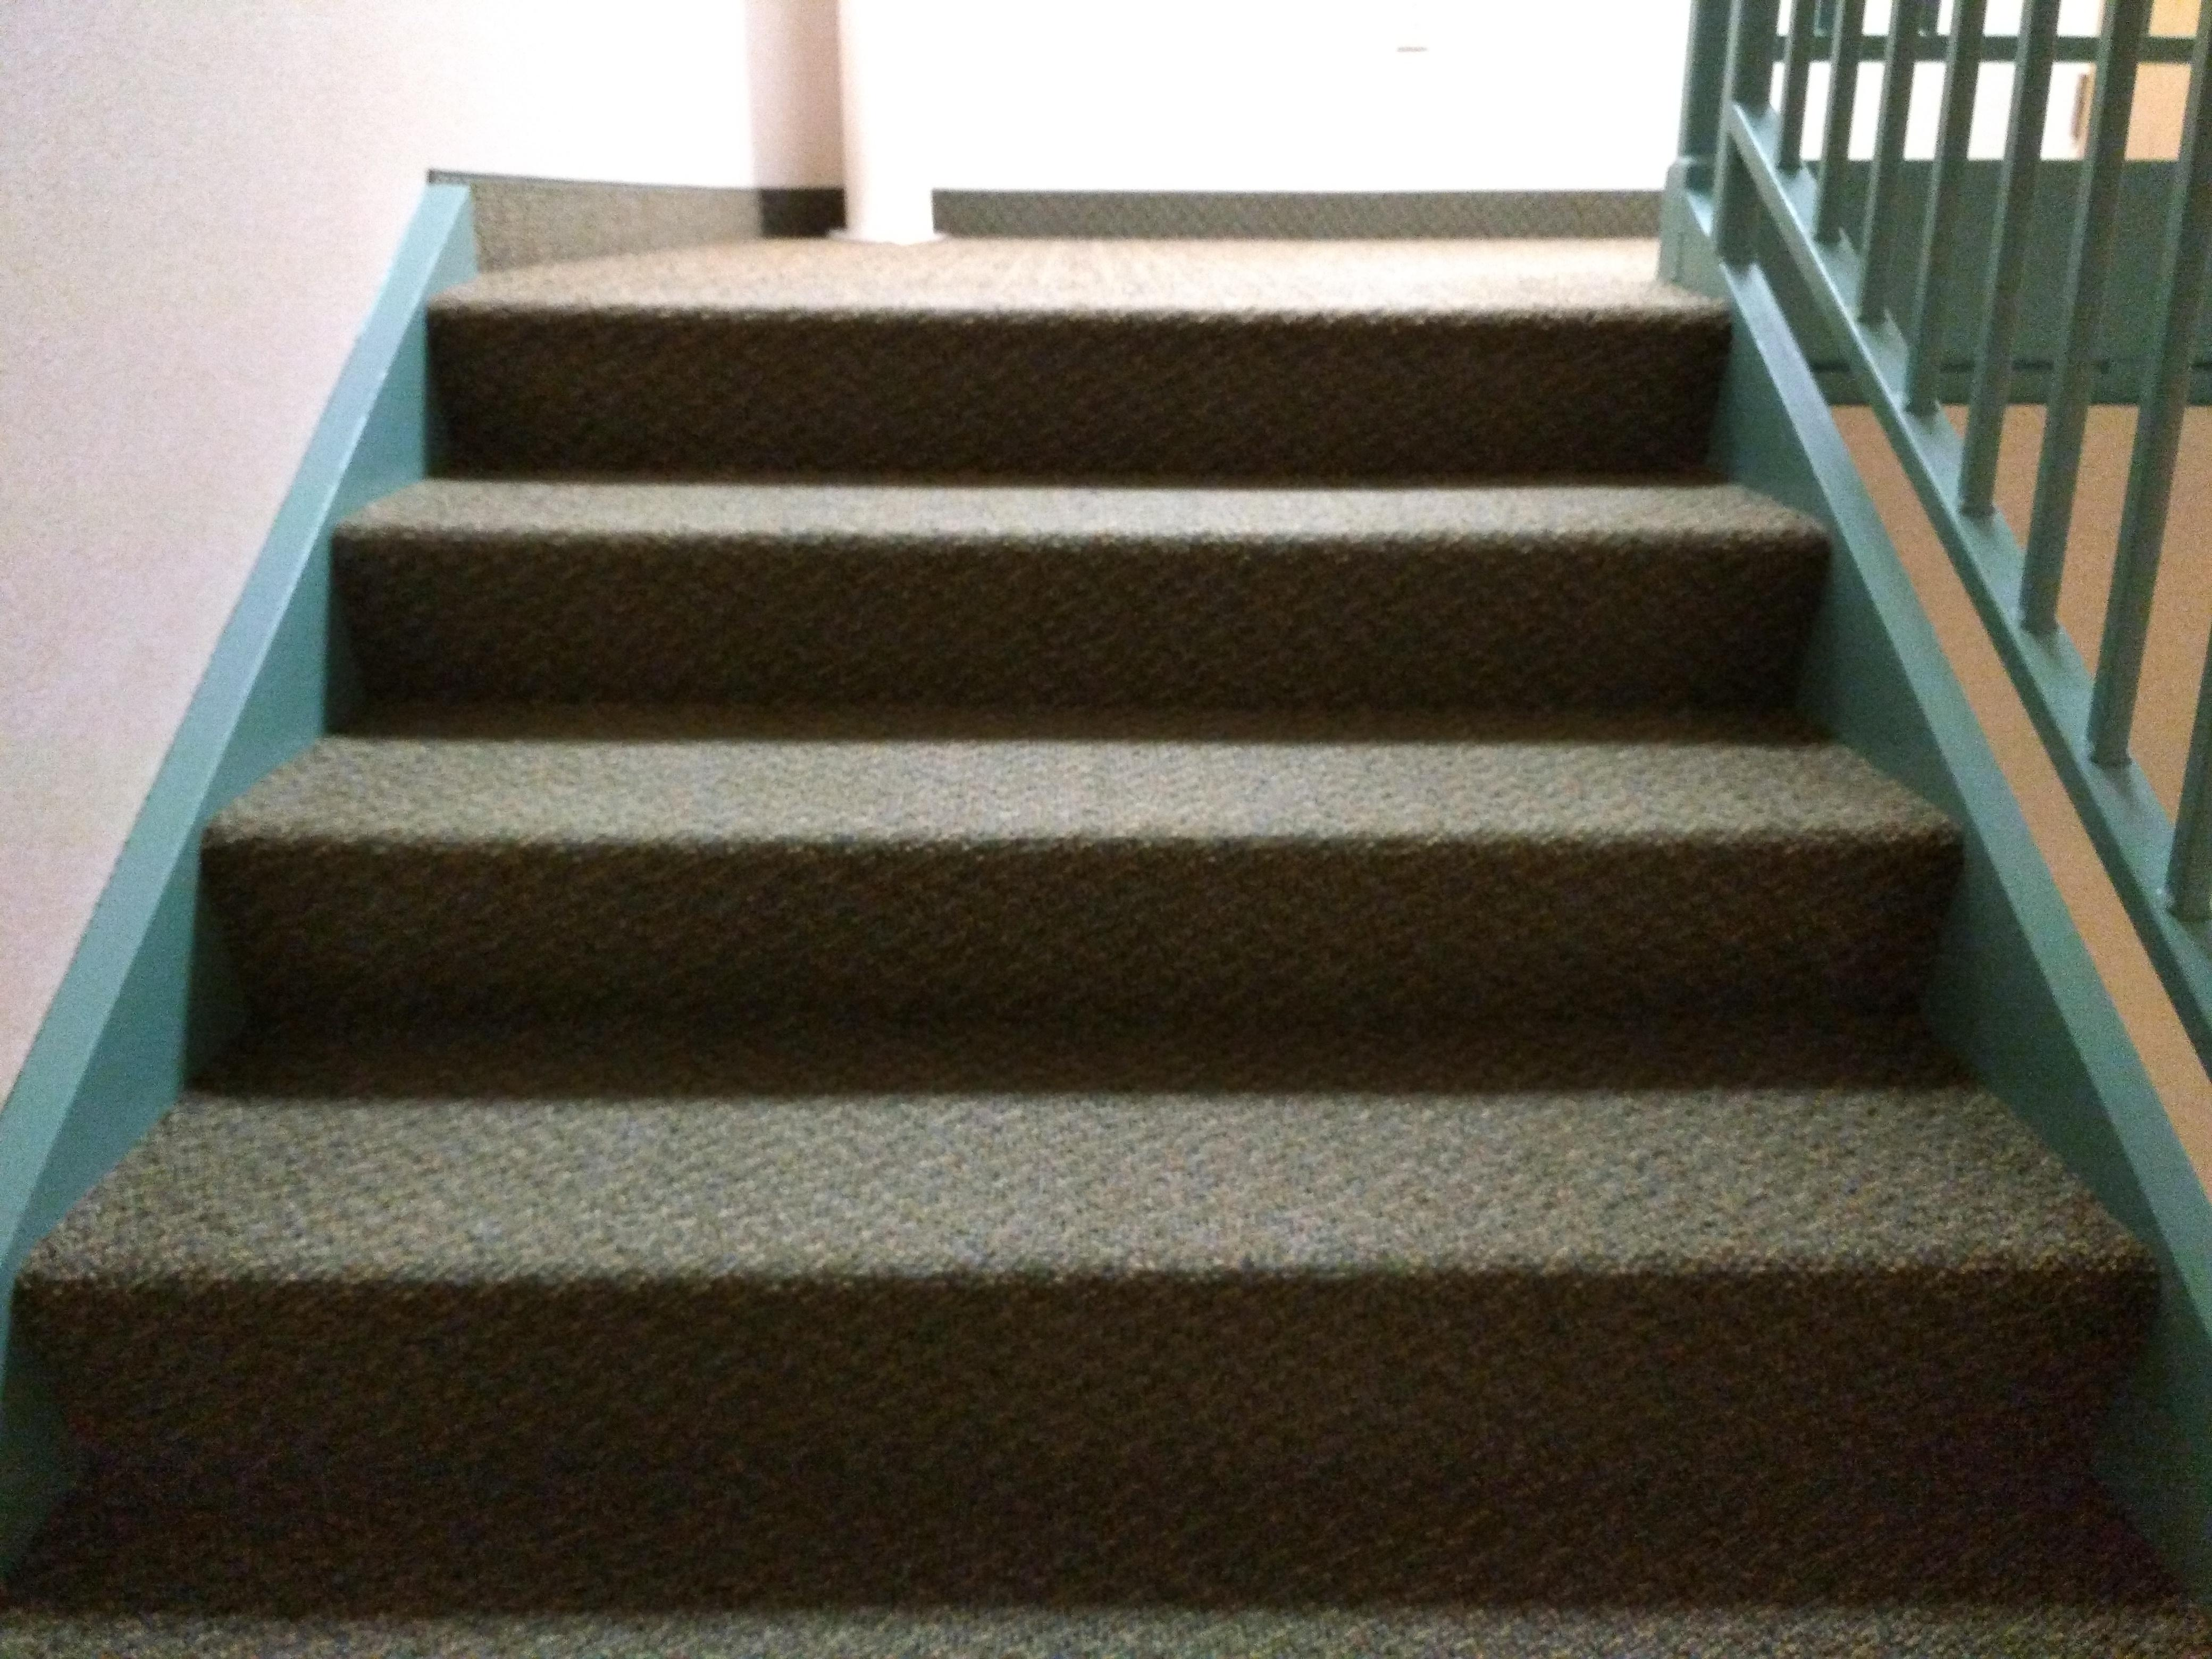stairs_up: (85, 293, 2137, 1659)
